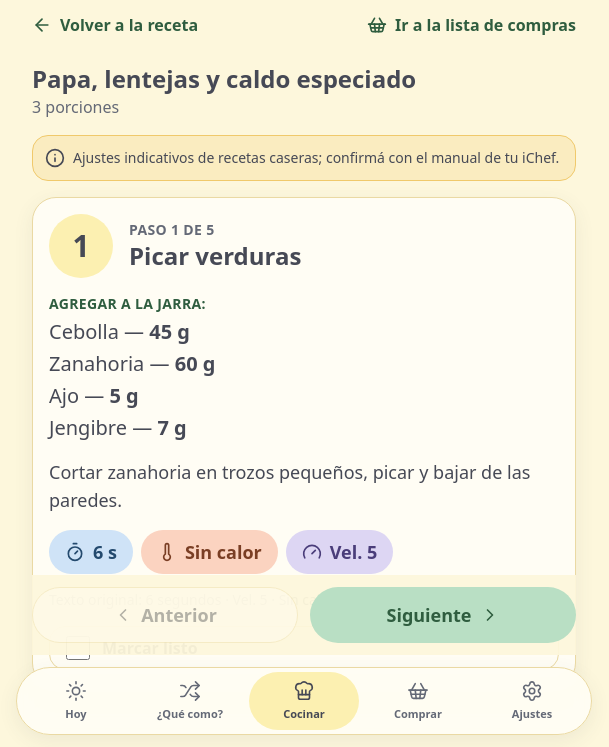
Test case: the hot-jug banner opens by default on the first gradual step only
The width and height of the screenshot is (609, 747).
Expected: the text "Paso 1 de 5" is shown, [129, 220, 215, 239]
Click the button "Siguiente": {"x": 443, "y": 615} [310, 587, 576, 643]
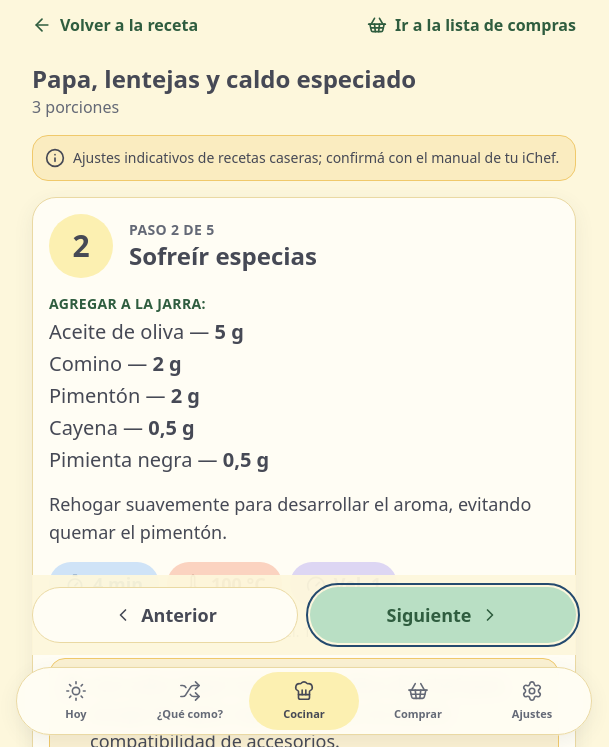
Click the button "Siguiente": {"x": 443, "y": 615} [310, 587, 576, 643]
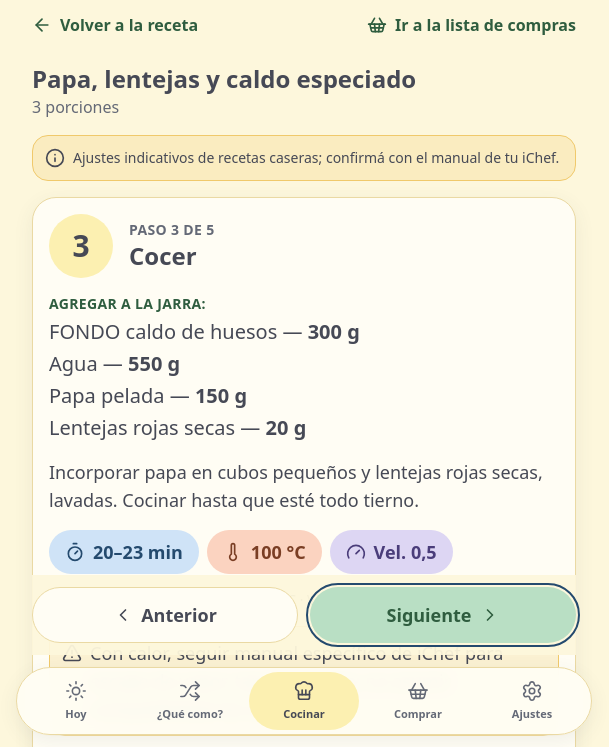
Click the button "Siguiente": {"x": 443, "y": 615} [310, 587, 576, 643]
(page scrolled)
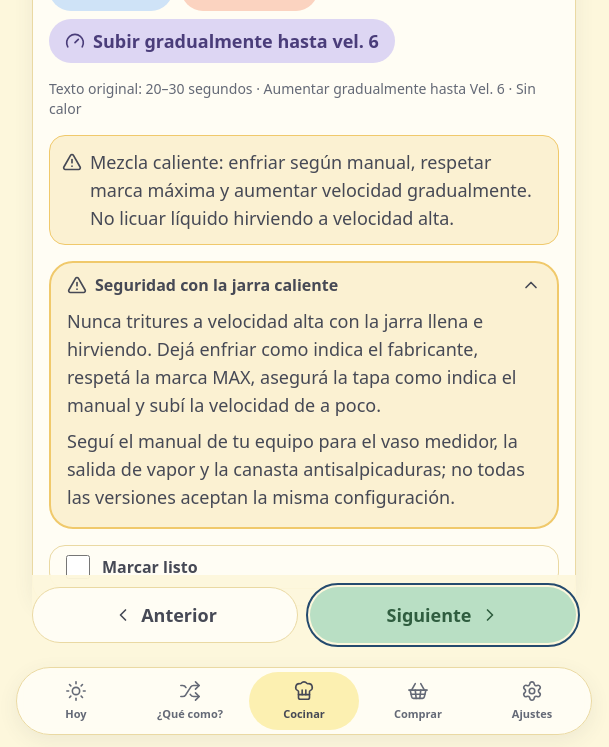
Result: the list item "Nunca tritures a velocidad alta con la jarra llena e hirviendo. Dejá enfriar como indica el fabricante, respetá la marca" is shown at [67, 309, 516, 417]
